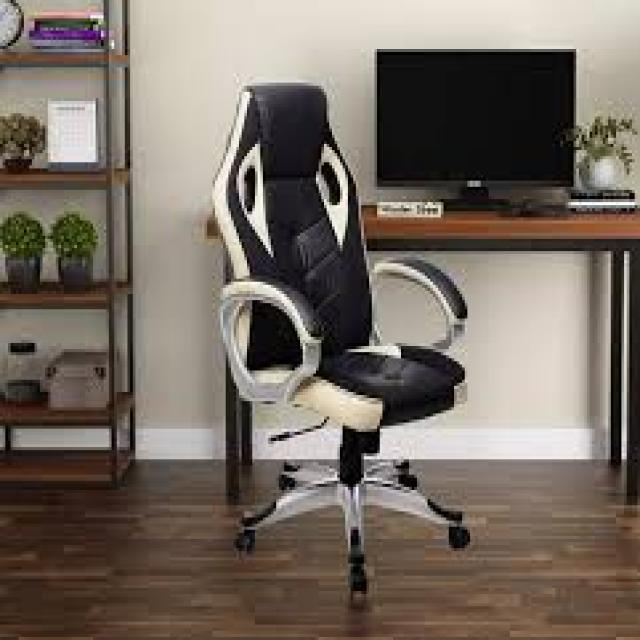chair: (158, 66, 494, 634)
